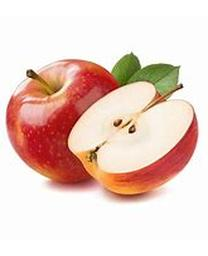apple: (66, 80, 197, 195), (5, 58, 119, 182)
